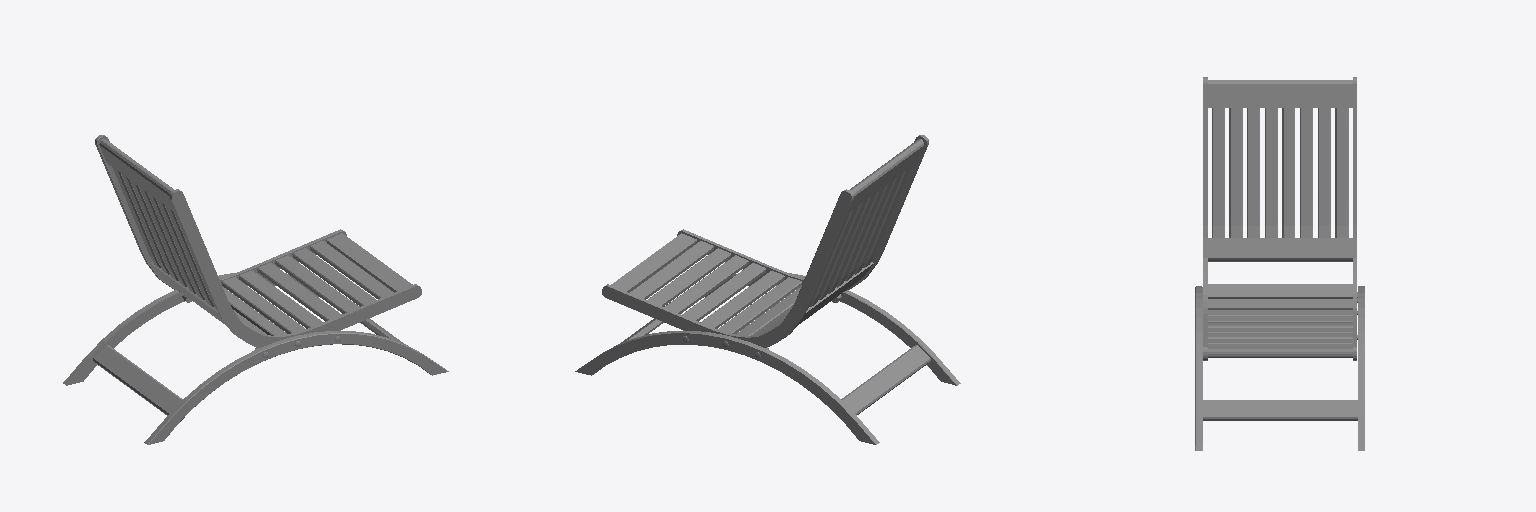
Rendered from patio.obj.
The picture shows the model from 3 angles: view 1: azimuth 30°, elevation 25°; view 2: azimuth 150°, elevation 25°; view 3: azimuth 270°, elevation 25°; orthographic projection.
Parts seen in each view (by area): view 1: frame_default, buttrest_default, legs_default, backrest_default; view 2: frame_default, buttrest_default, legs_default, backrest_default; view 3: frame_default, backrest_default, buttrest_default, legs_default.
Part boxes in pixels (bbox=[...]): frame_default: bbox=[95, 135, 421, 347]; buttrest_default: bbox=[221, 241, 393, 335]; legs_default: bbox=[63, 273, 448, 444]; backrest_default: bbox=[112, 167, 215, 308]; frame_default: bbox=[602, 135, 928, 347]; buttrest_default: bbox=[630, 241, 801, 335]; legs_default: bbox=[575, 273, 960, 444]; backrest_default: bbox=[807, 168, 910, 309]; frame_default: bbox=[1203, 77, 1356, 360]; backrest_default: bbox=[1212, 108, 1348, 237]; buttrest_default: bbox=[1208, 299, 1352, 343]; legs_default: bbox=[1195, 286, 1364, 450].
Bounding box in the file's own units: 4.86 × 3.74 × 2.38.